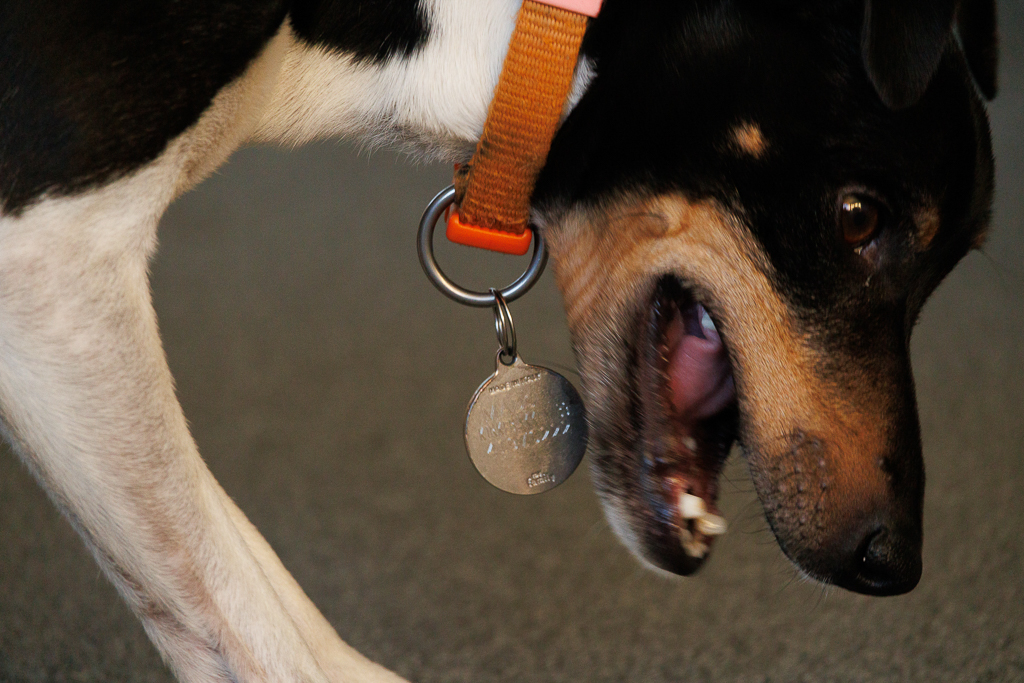Dog: (0, 0, 1006, 683)
